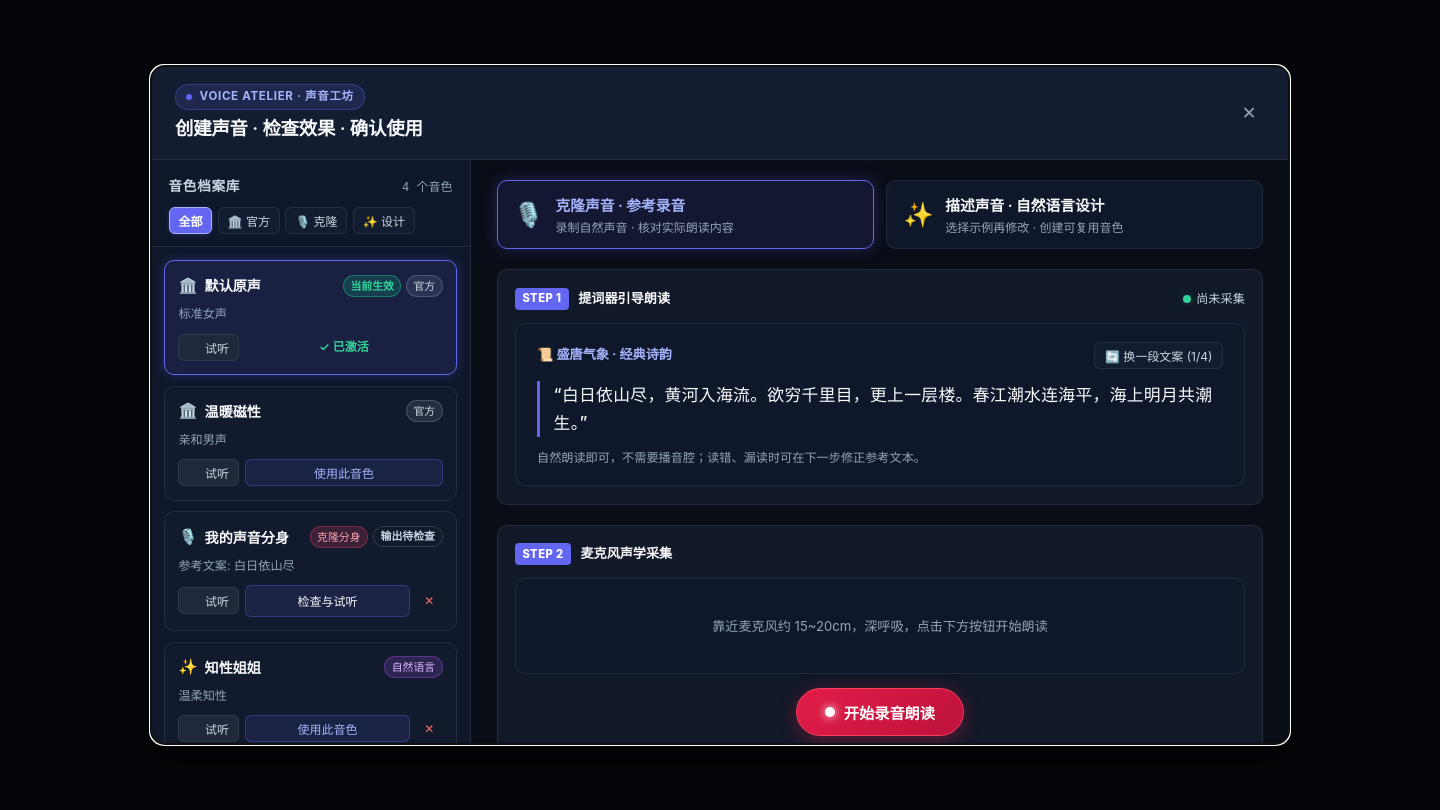
Test case: filters voices by mode in the voice deck
Click the button with class "deck-filter-chip" showing "🎙️ 克隆". click: x=316, y=221
box: [285, 207, 347, 234]
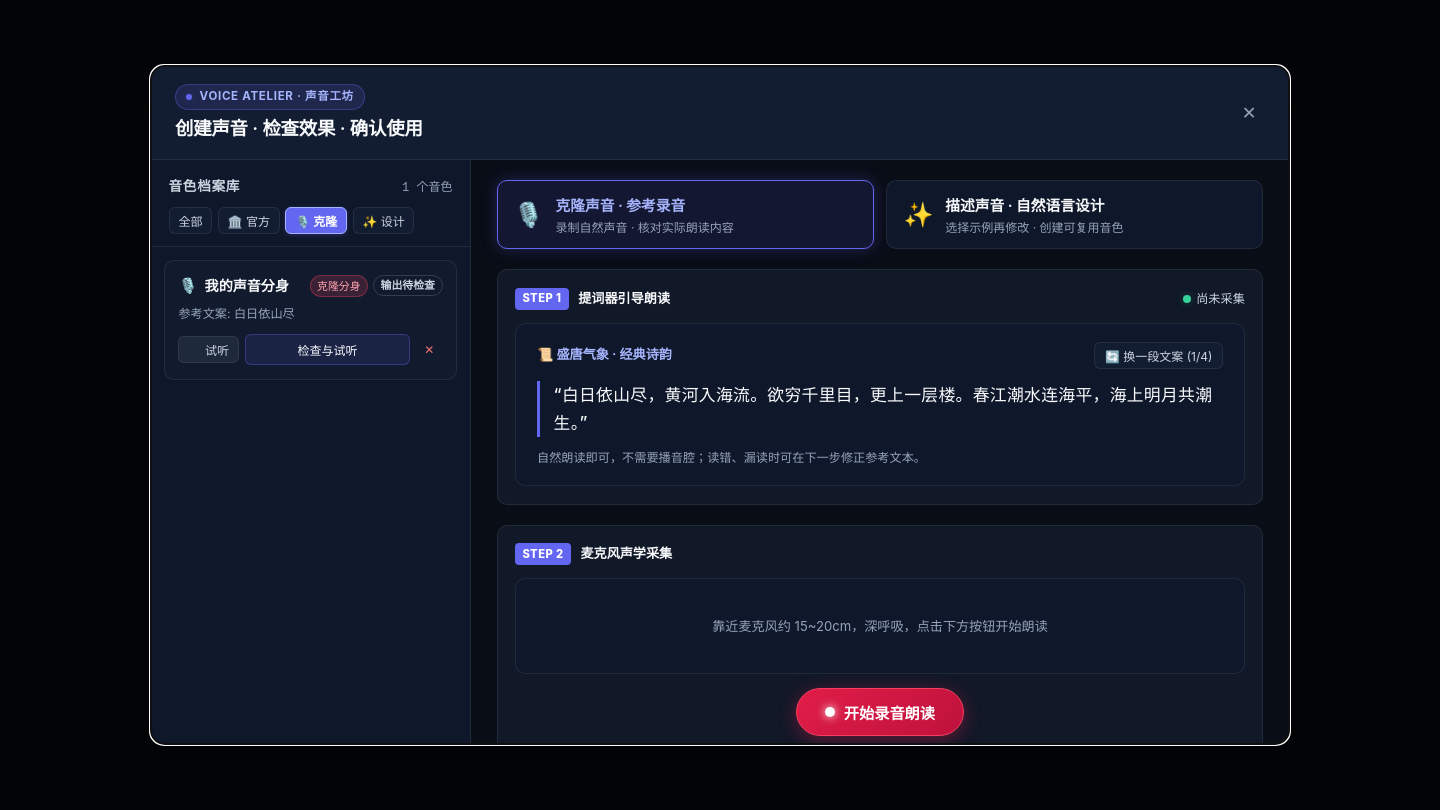
Expected: the list item "🎙️ 我的声音分身 克隆分身 输出待检查 参考文案: 白日依山尽 试听 检查与试听 ✕" is shown, [164, 260, 457, 380]
Now the number of list items is 1, box [164, 260, 457, 380]
